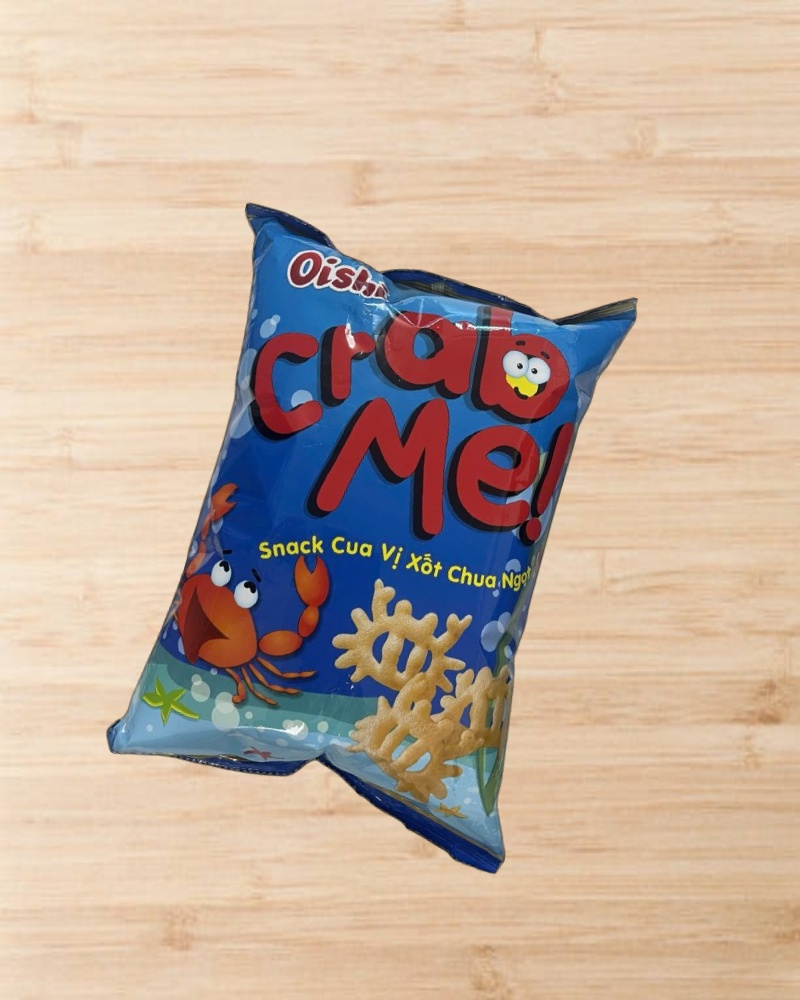Snack cua: (98, 196, 653, 870)
